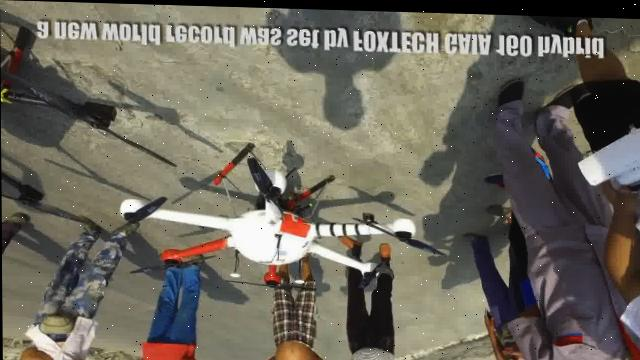drone: (112, 139, 419, 294)
